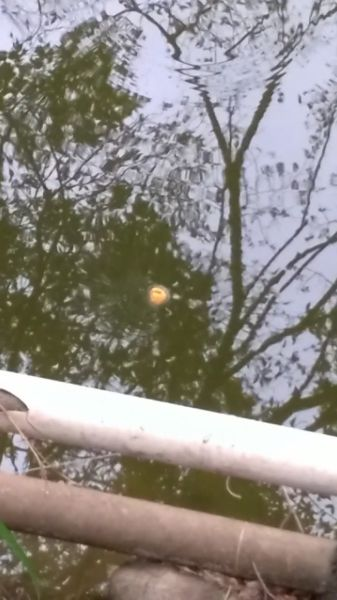eggs: (148, 282, 169, 308)
